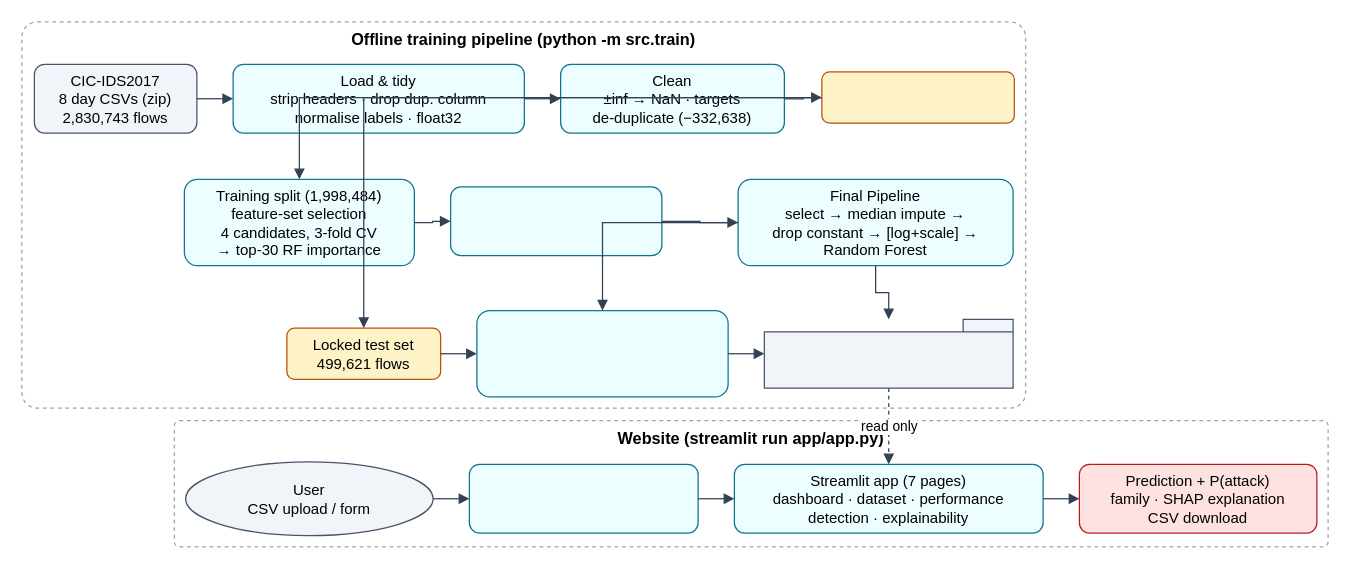
Some shapes in this 1350 by 569 pixel diagram are drawn without their labels. Here are the shapes that lost their labels. From the top down, the centre of each, then its label:
At pixel 917 97: "Stratified 80/20 split seed 42".
At pixel 555 221: "Tune 5 models RandomizedSearchCV F1 (ATTACK), 3-fold CV".
At pixel 602 353: "Evaluate metrics · ROC/PR · errors family model · held-out day explainability".
At pixel 888 353: "Artifacts models/*.joblib · schema metadata · results · figures".
At pixel 583 498: "Validate input columns · types · Infinity limits (src/predict.py)".
